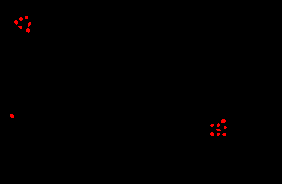Target: (14, 20, 18, 25), (26, 28, 30, 33), (221, 119, 226, 123), (19, 17, 23, 21), (10, 114, 14, 118), (210, 132, 214, 136), (28, 22, 31, 27), (18, 26, 22, 29), (217, 123, 220, 127), (210, 124, 214, 127), (222, 133, 226, 136), (216, 129, 221, 131), (25, 16, 28, 19), (224, 126, 227, 129), (217, 133, 220, 136)
